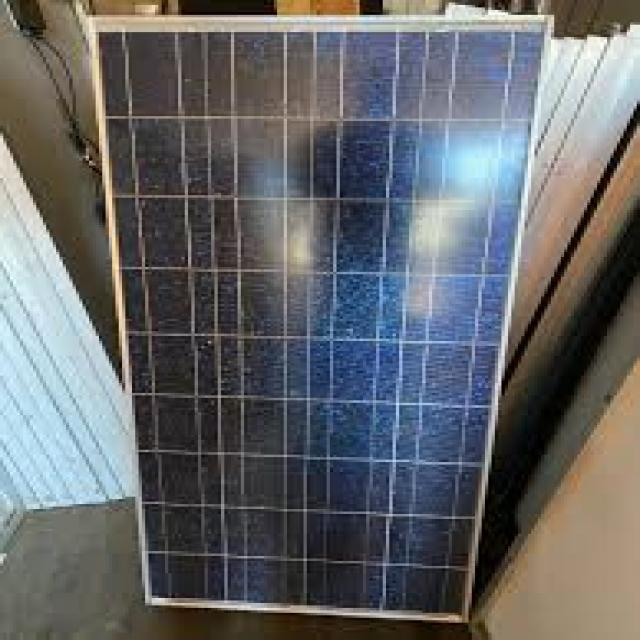faulty: (97, 23, 519, 638)
